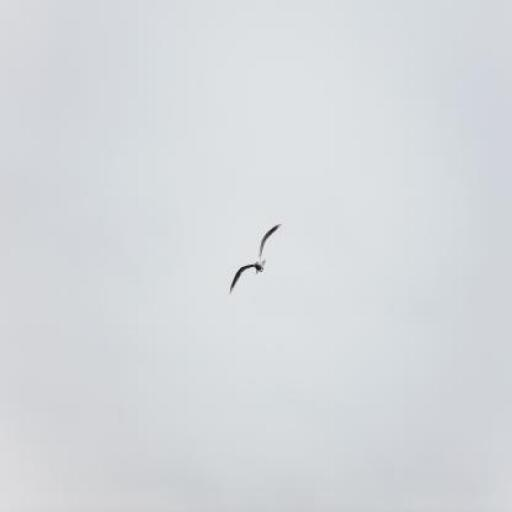bird: (230, 223, 283, 298)
